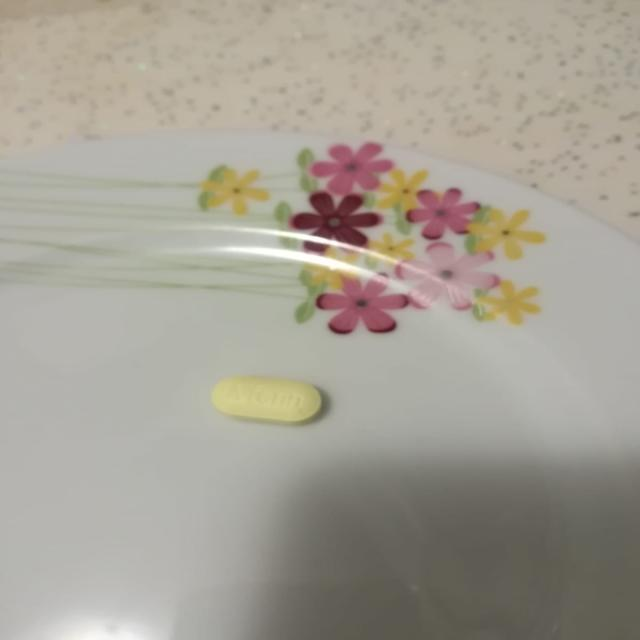pills: (203, 367, 335, 431)
